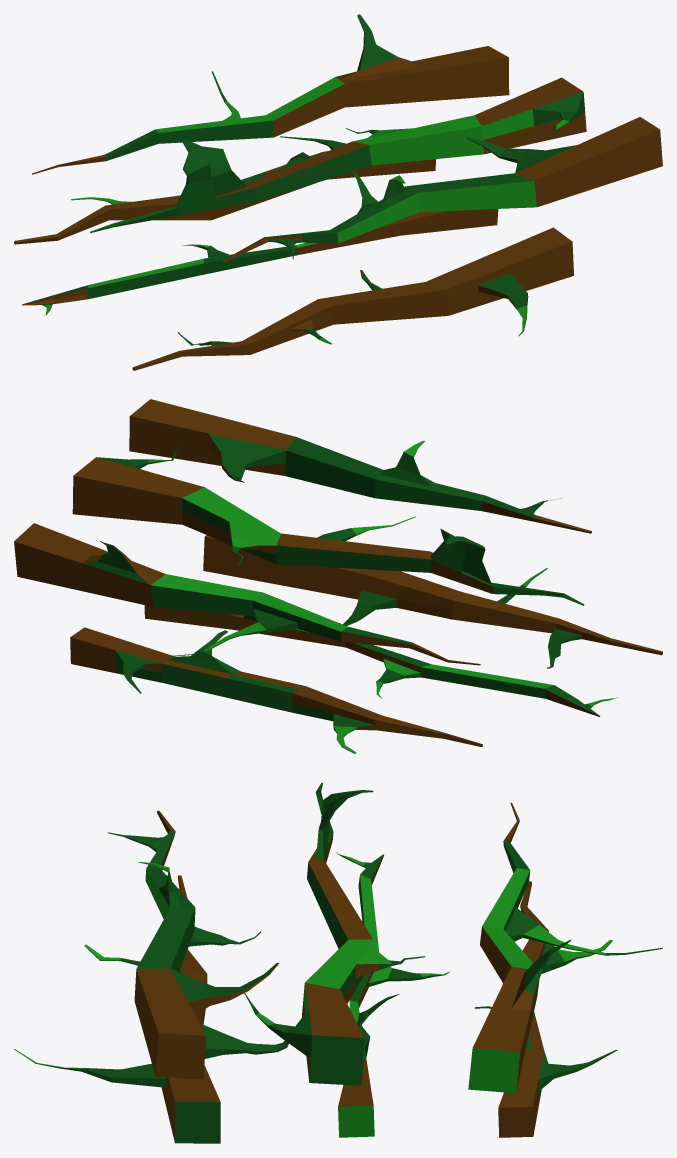
The model's file is Bullet.fbx.
3 views of the same model, one above another, from view 1: azimuth 30°, elevation 25°; view 2: azimuth 150°, elevation 25°; view 3: azimuth 270°, elevation 25° (orthographic). The views are drawn at different scales.
Visible parts, largest first — view 1: Bullet; view 2: Bullet; view 3: Bullet.
Part boxes in pixels (x1,y1,x2,y2): Bullet: [14, 14, 662, 370]; Bullet: [14, 399, 662, 753]; Bullet: [14, 782, 662, 1143].
Size of the model in its own units: 550 by 148 by 482.
